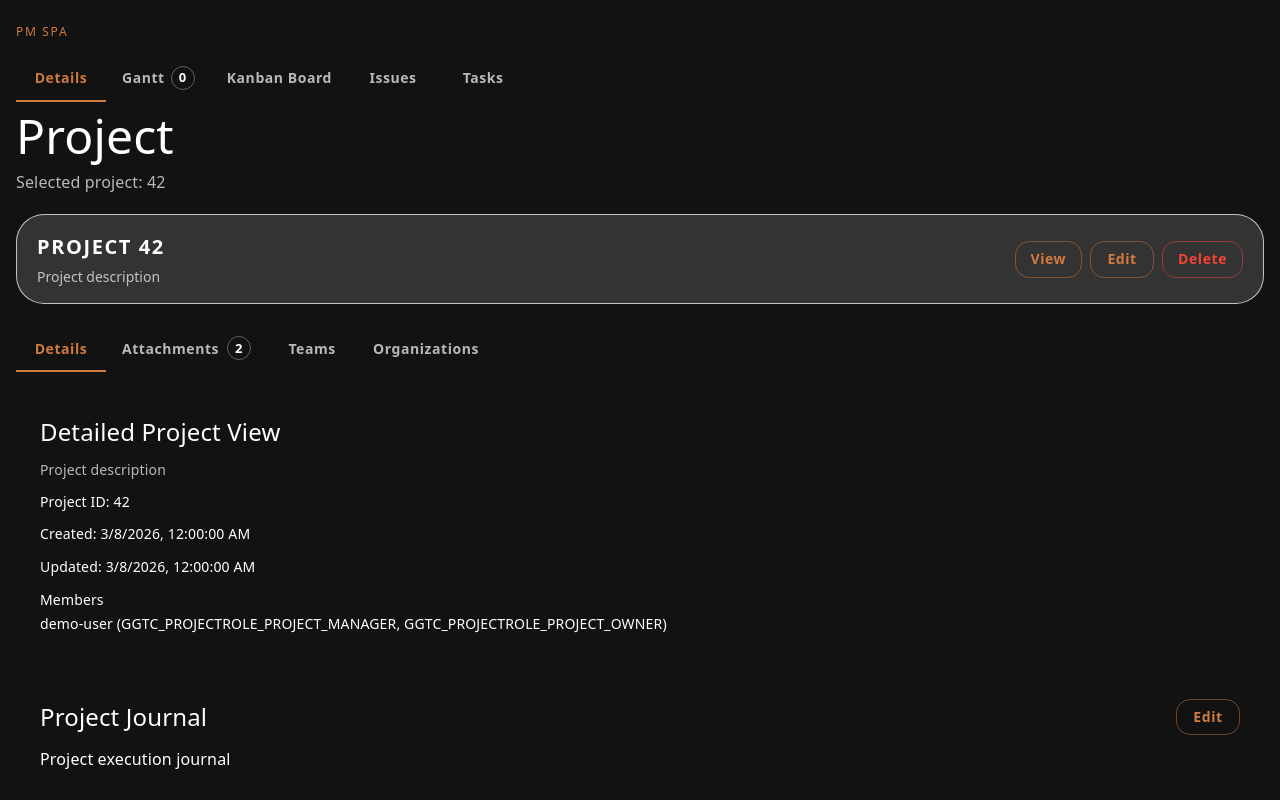
Test: ProjectManagerProjectPage › opens the summary modal from the project view button
Click the button "View" at (1048, 259), box [1014,241,1082,278]
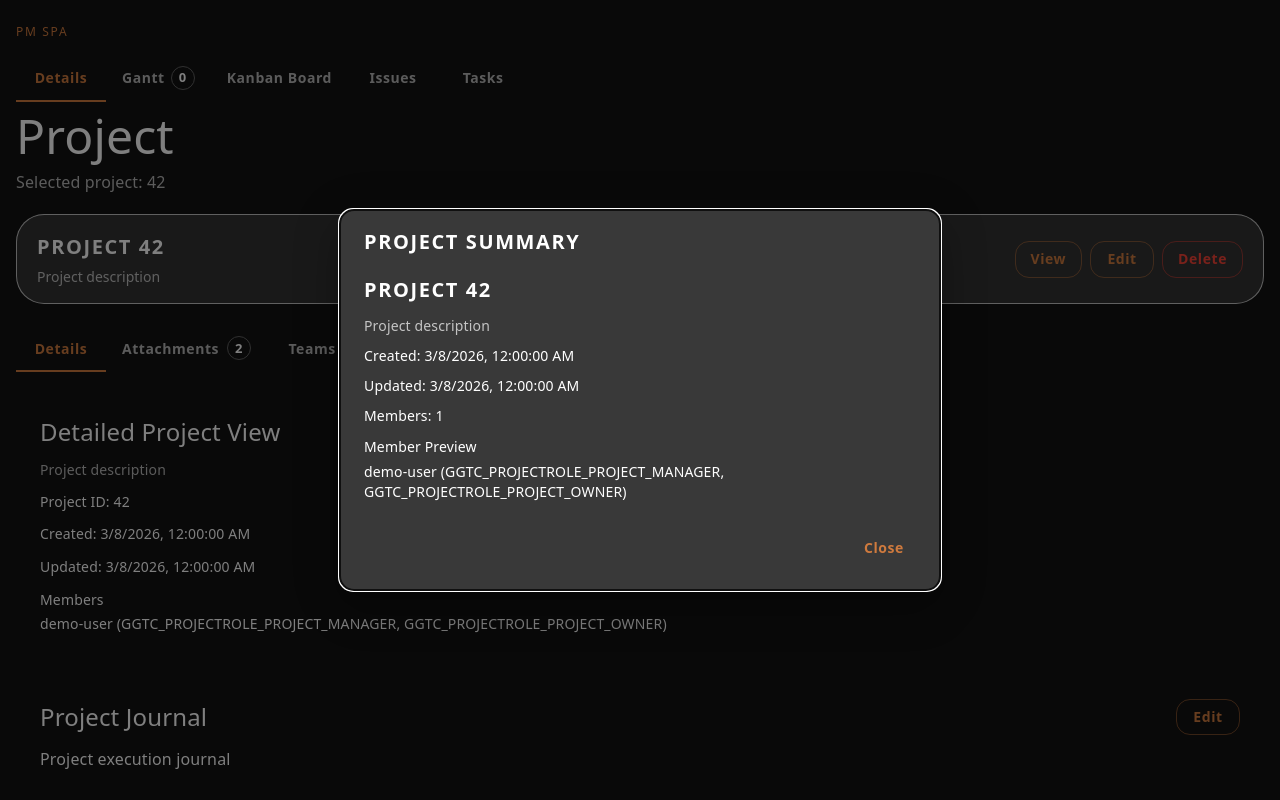
Result: the dialog "Project Summary" is shown at [340,210,940,590]
